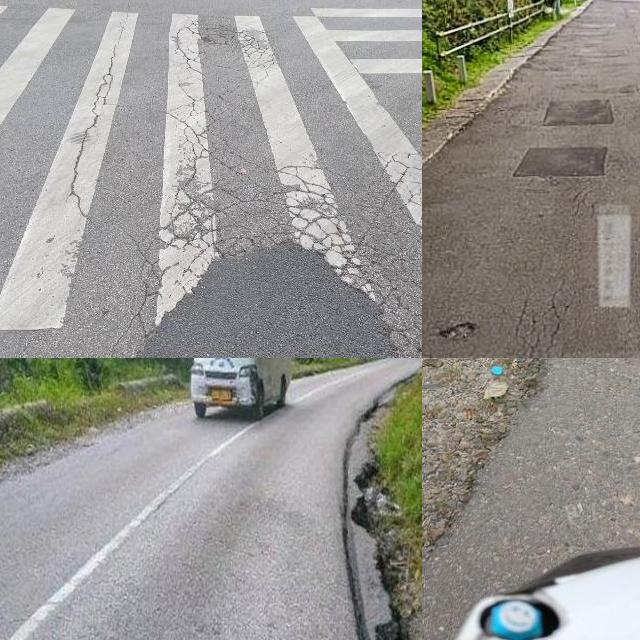Pinggir: (422, 358, 565, 549), (318, 412, 422, 640)
Sambungan: (138, 243, 396, 358), (535, 92, 628, 134), (515, 147, 610, 179)
